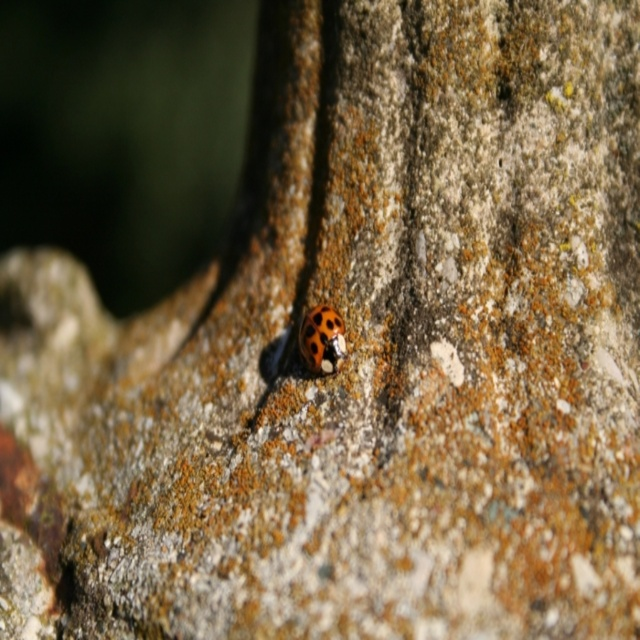Ladybug: (299, 304, 346, 378)
